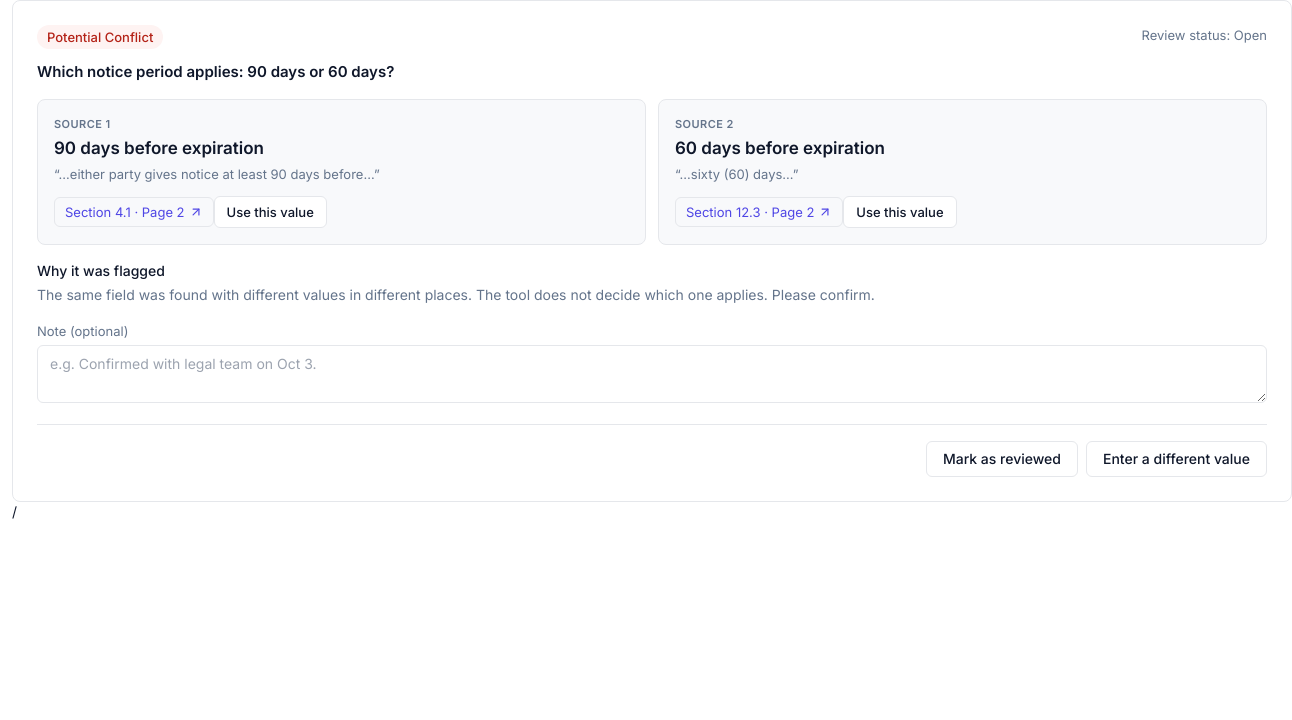
Test case: ClarificationCard (conflict) › resolves with the chosen source and a note, then reports the recalculated renewal
Type "Amendment wins" into the text box with placeholder "e.g. Confirmed with legal team on Oct 3." at (652, 374), box [37,345,1267,403]
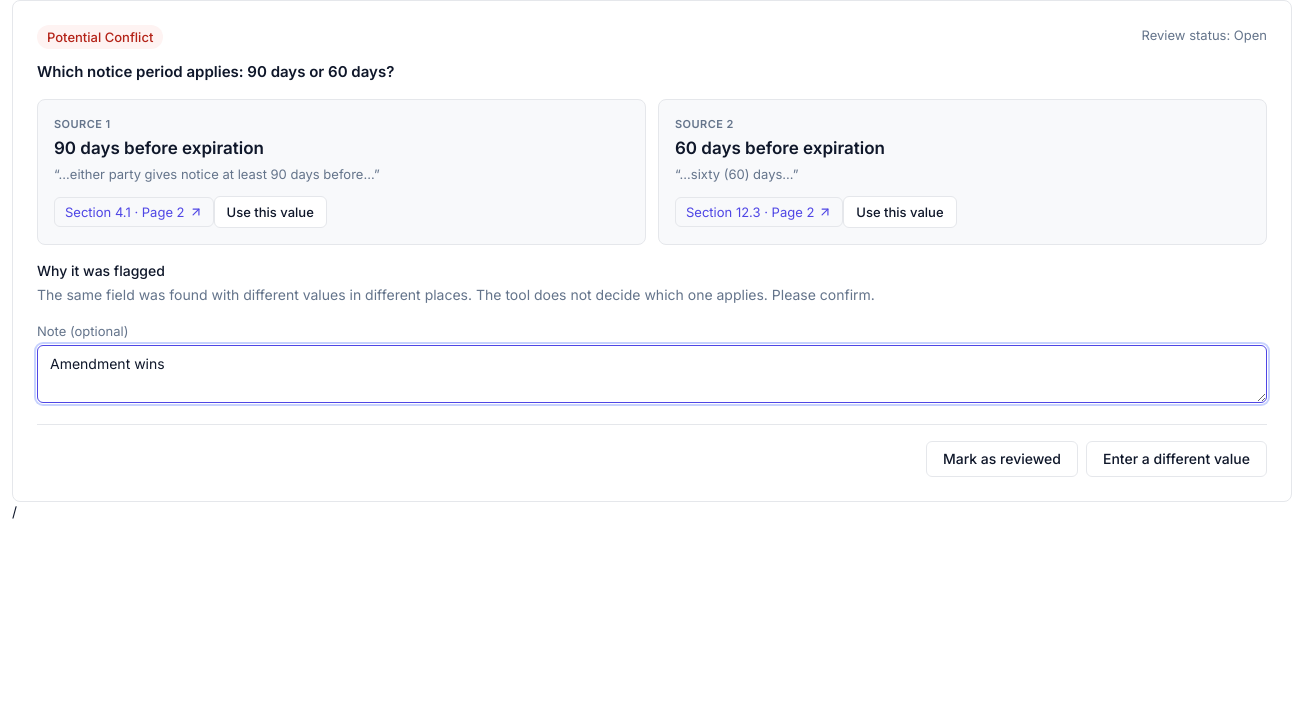
Click the button "Use this value" below "sixty (60) days" at (900, 212), box [843,196,956,228]
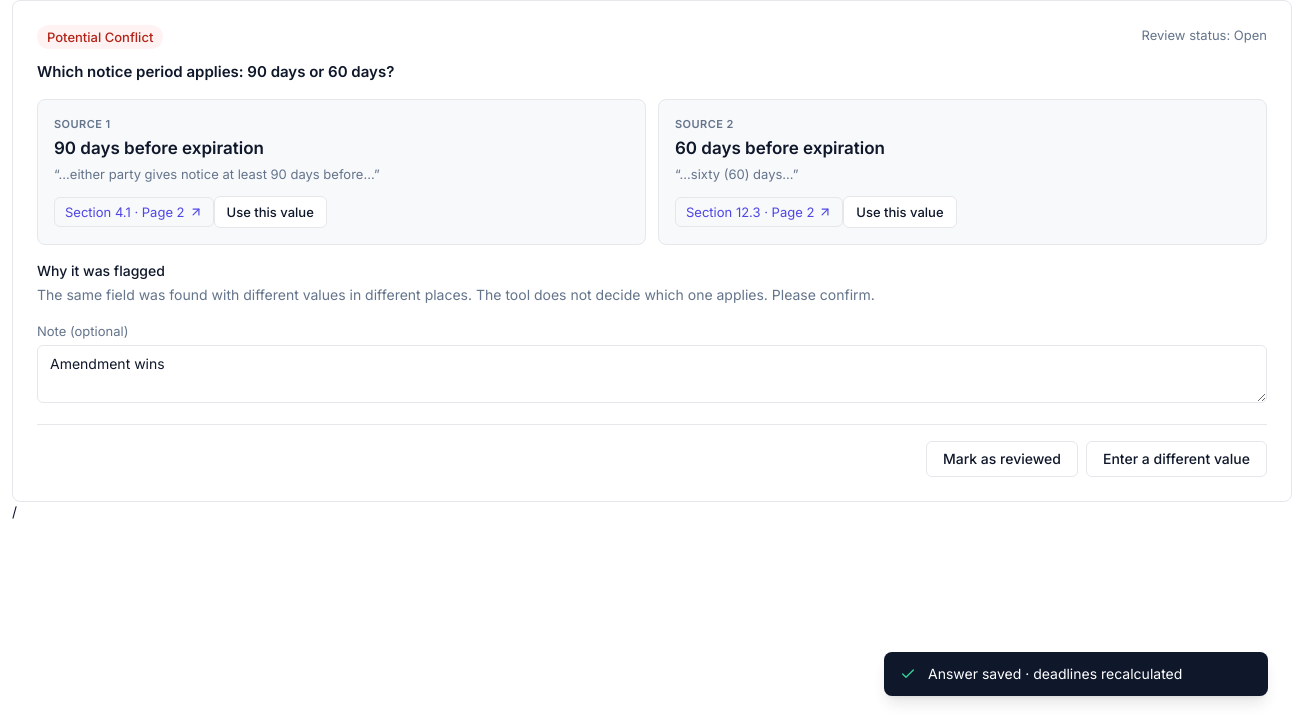
Result: the text "Answer saved · deadlines recalculated" is shown at [884,652,1268,696]
